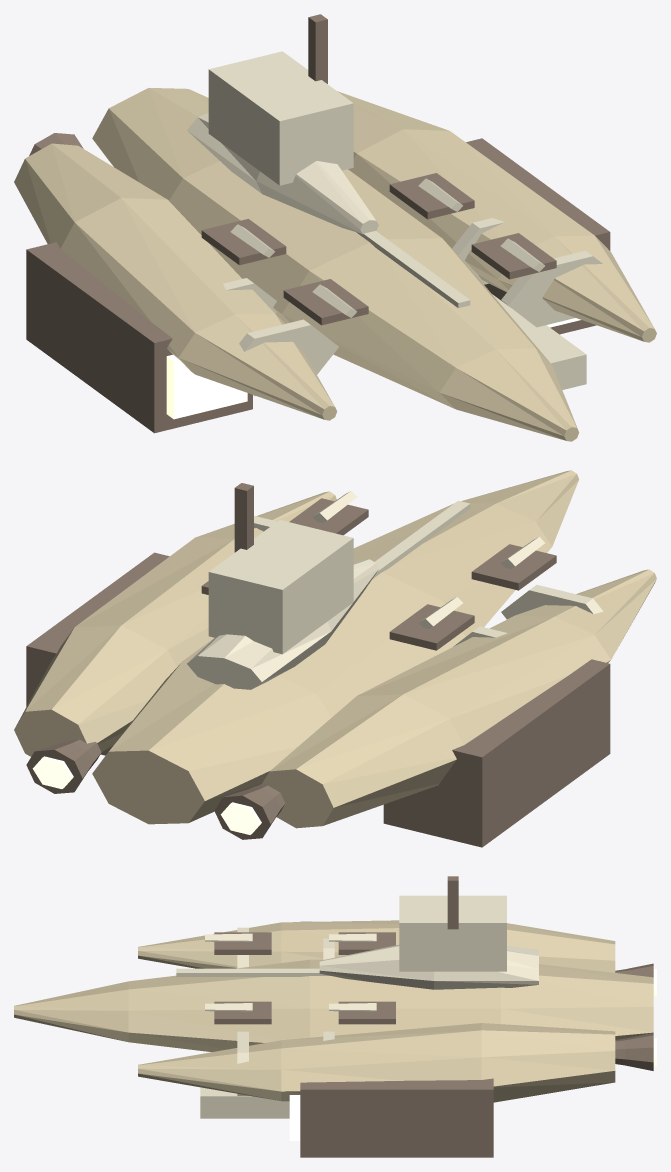
3 renders of one model, top to bottom at view 1: azimuth 30°, elevation 25°; view 2: azimuth 150°, elevation 25°; view 3: azimuth 270°, elevation 25°, orthographic. The views are drawn at different scales.
Bounding box in the file's own units: 14.81 × 8.58 × 23.93.
